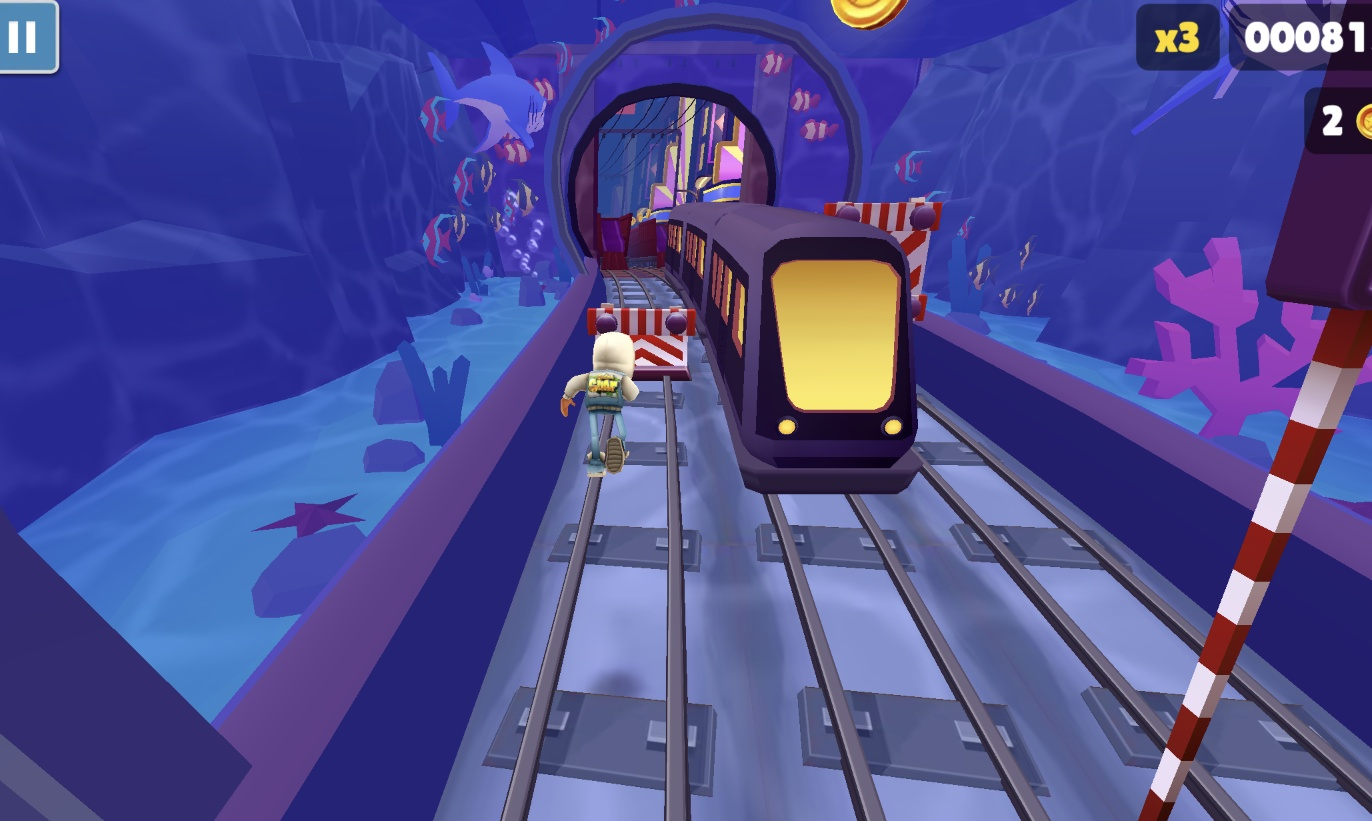ground_barrier: (580, 305, 702, 396)
overhead_barrier: (835, 197, 946, 327)
train: (652, 201, 928, 499), (592, 215, 629, 273), (619, 211, 653, 274)
